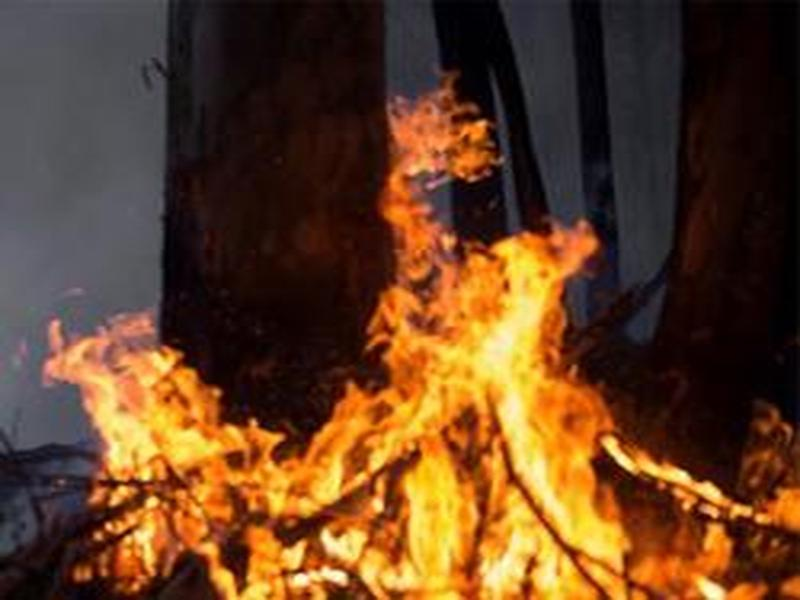FIRE: (39, 176, 707, 600)
